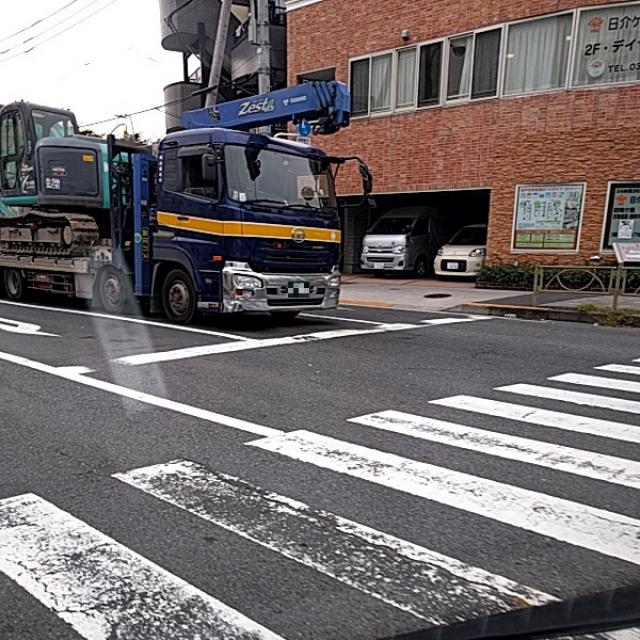pothole: (61, 532, 149, 598)
